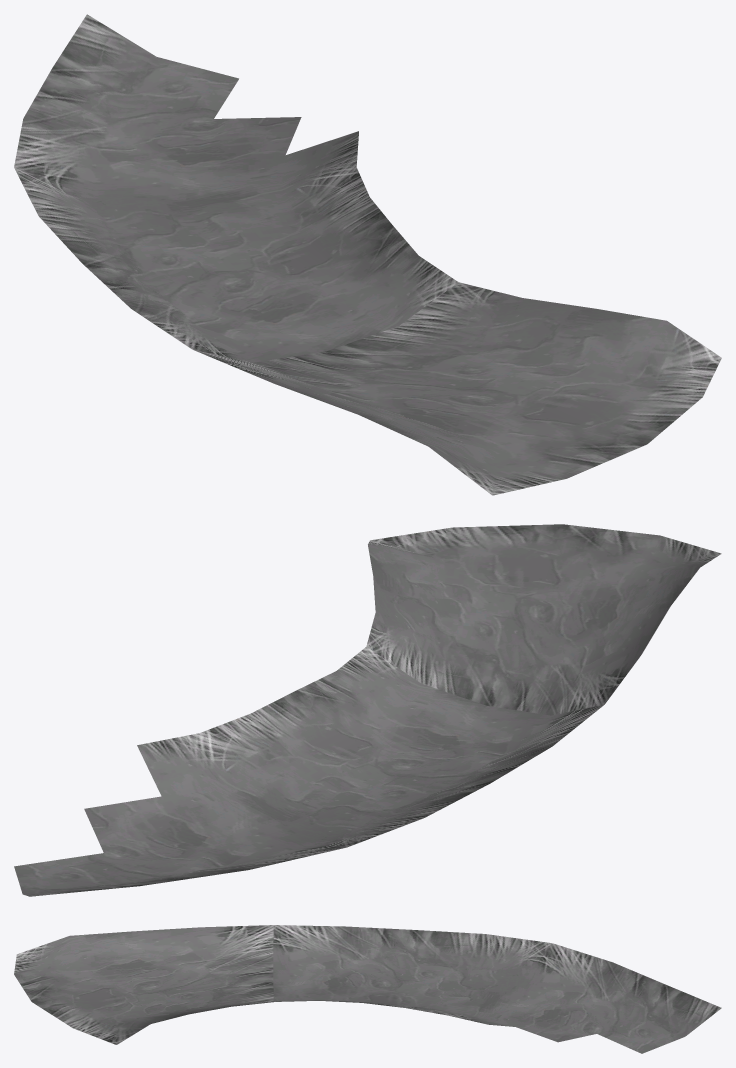
The model's file is SWORDLIGHT20_PS-AREA01_14.fbx.
3 renders of one model, top to bottom at view 1: azimuth 30°, elevation 25°; view 2: azimuth 150°, elevation 25°; view 3: azimuth 270°, elevation 25°, orthographic. The views are drawn at different scales.
Parts seen in each view (by area): view 1: SWORDLIGHT20_PS-AREA01_14; view 2: SWORDLIGHT20_PS-AREA01_14; view 3: SWORDLIGHT20_PS-AREA01_14.
Part boxes in pixels (left/top/right/bottom): SWORDLIGHT20_PS-AREA01_14: left=14, top=14, right=721, bottom=495; SWORDLIGHT20_PS-AREA01_14: left=14, top=524, right=721, bottom=896; SWORDLIGHT20_PS-AREA01_14: left=14, top=925, right=721, bottom=1053.
Size of the model in its own units: 69259 by 9464 by 179365.
Materials: 2 (2 with a texture image).
